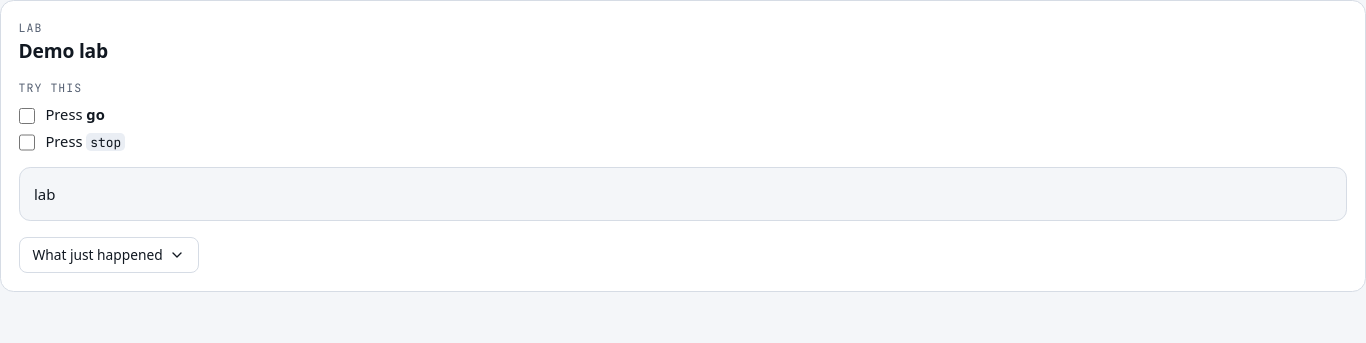
LabFrame › hides What just happened until it is asked for
Expected: the text "changed" is not shown
Click the button "What just happened" at [109, 255], box [19,237,199,273]
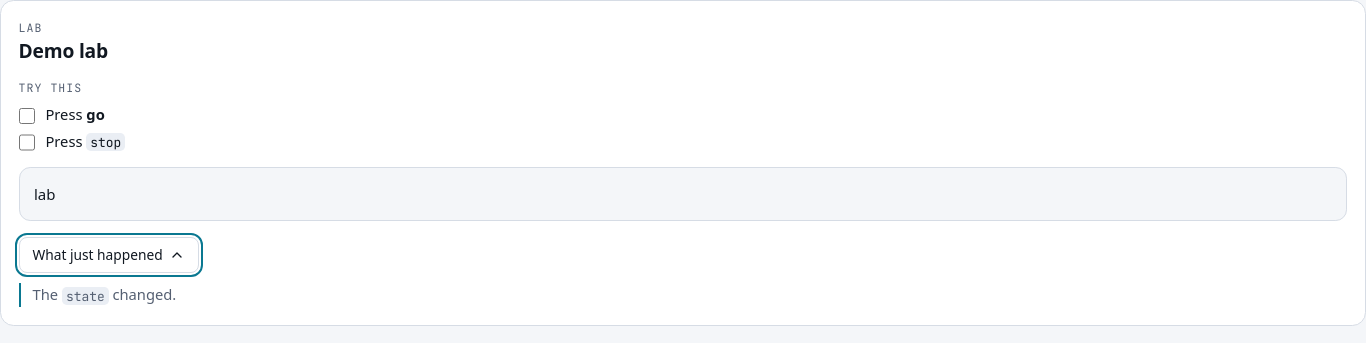
Expected: the button "What just happened" is expanded
Click the button "What just happened" at [109, 255], box [19,237,199,273]
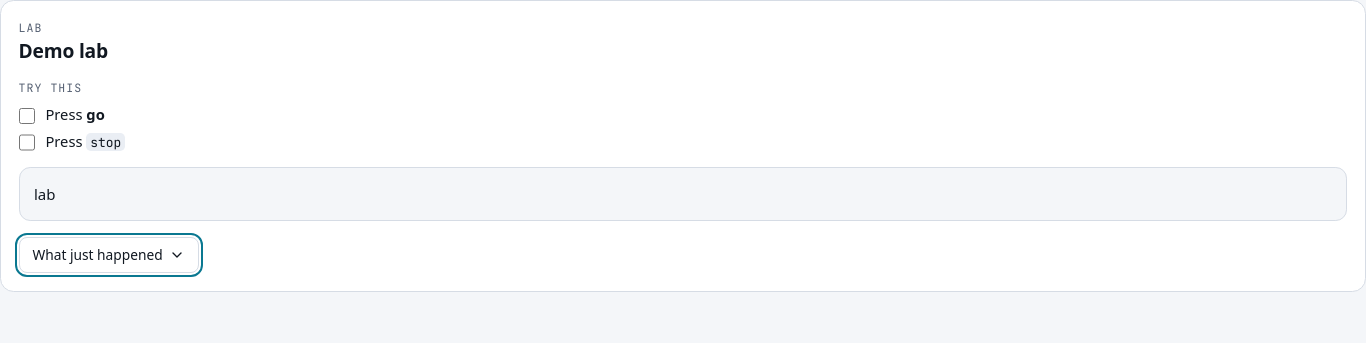
Expected: the text "changed" is gone
